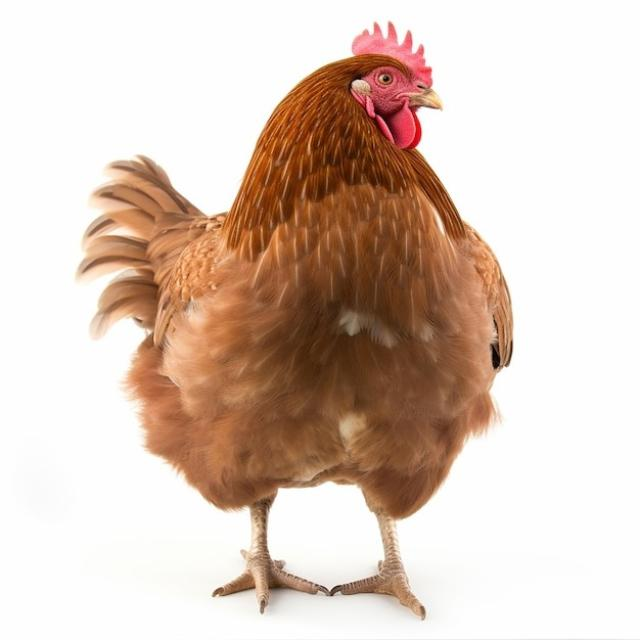Chicken: (75, 22, 514, 621)
